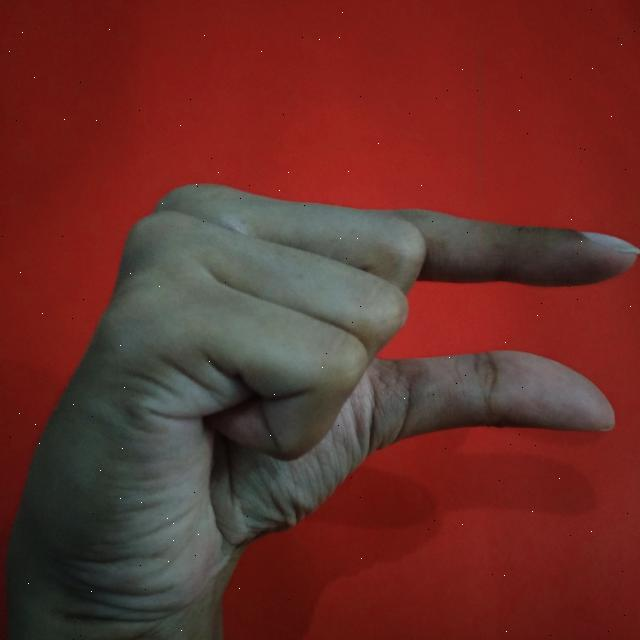G: (0, 180, 640, 640)
